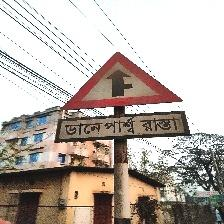Side-road-right: (58, 52, 189, 143)
